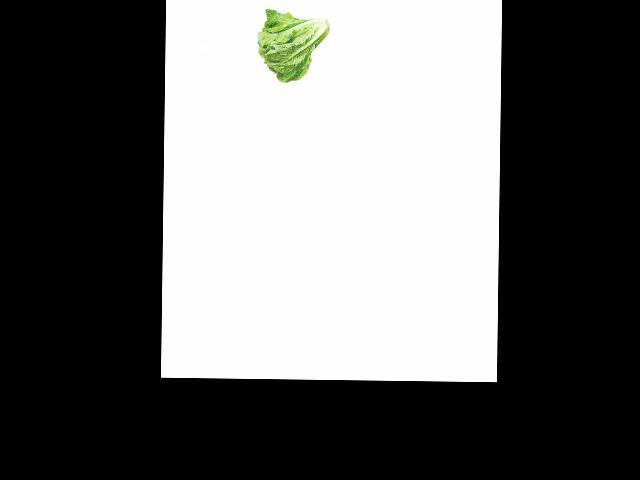lettuce: (256, 10, 333, 84)
